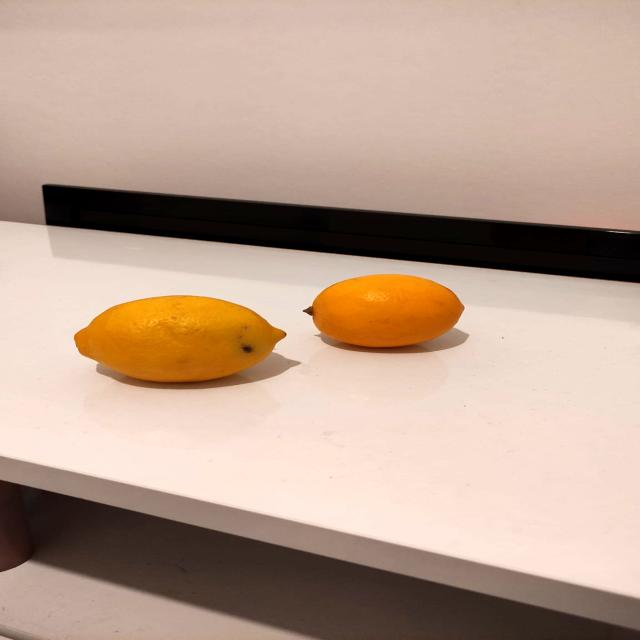lemon: (67, 292, 296, 390), (300, 273, 483, 352)
